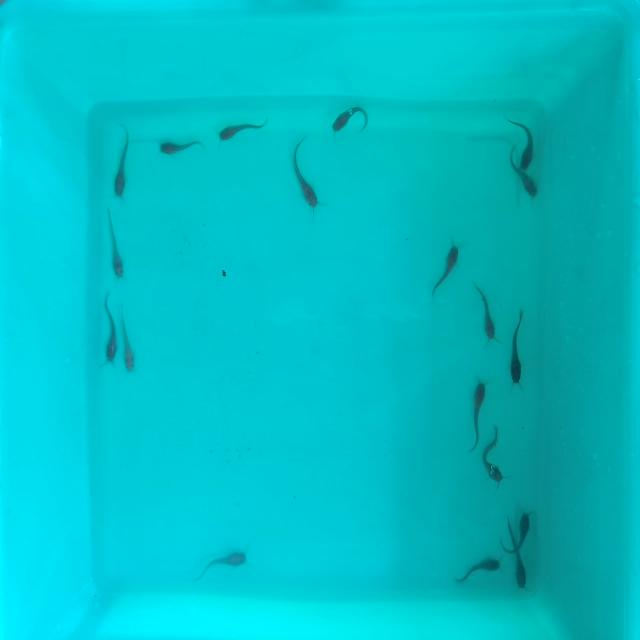lele: (195, 540, 251, 584), (507, 114, 544, 169), (429, 243, 464, 300), (293, 138, 320, 209), (469, 281, 499, 340), (113, 122, 134, 198), (120, 300, 140, 376), (483, 424, 506, 490), (218, 116, 272, 144), (456, 558, 506, 587), (97, 294, 117, 365), (508, 309, 526, 386), (468, 369, 484, 452), (106, 210, 125, 278), (330, 105, 371, 136), (508, 549, 528, 596), (508, 168, 537, 199), (160, 136, 206, 153), (516, 509, 532, 550)
